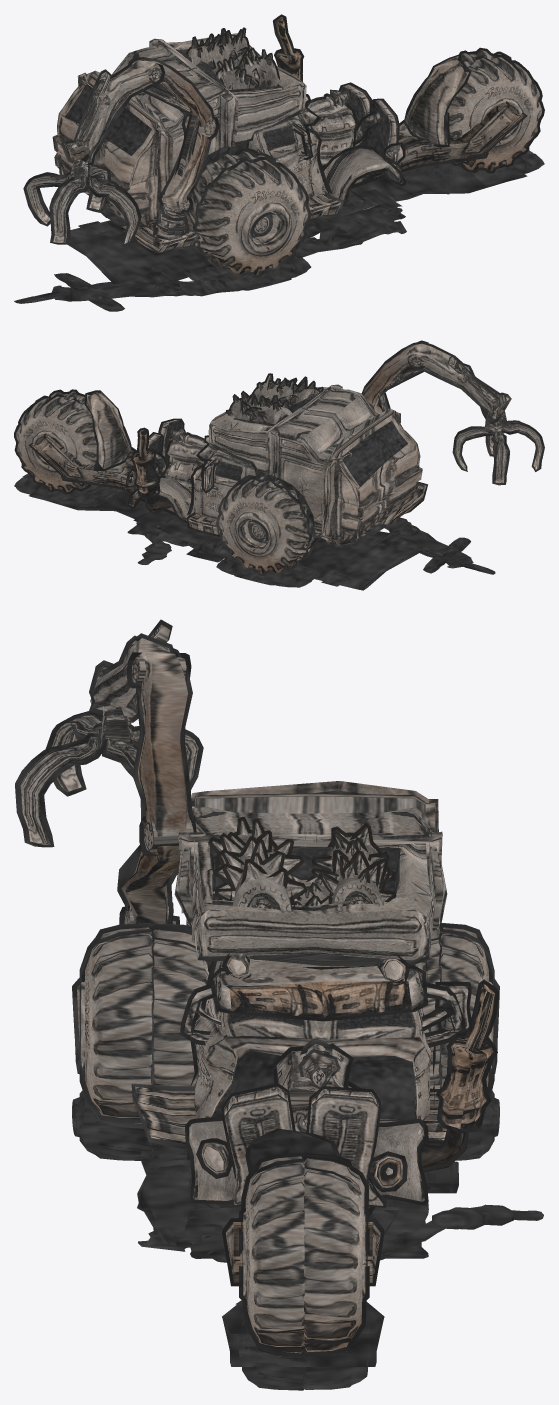
File: garbage.glb
3 renders of one model, top to bottom at view 1: azimuth 30°, elevation 25°; view 2: azimuth 150°, elevation 25°; view 3: azimuth 270°, elevation 25°, orthographic. The views are drawn at different scales.
Visible parts, largest first — view 1: Plane.004_2, Plane.023_8, Plane.001_0, Plane.003_1, Plane.012_17, Plane.009_14, Plane.011_16, Plane.018_18, Plane.010_15, Plane.013_20, Plane.025_24, Plane.020_19 (+9 smaller); view 2: Plane.001_0, Plane.004_2, Plane.023_8, Plane.003_1, Plane.012_17, Plane.009_14, Plane.010_15, Plane.011_16, Plane.018_18, Plane.025_24, Plane.013_20, Plane.020_19 (+6 smaller); view 3: Plane.004_2, Plane.001_0, Plane.023_8, Plane.003_1, Plane.009_14, Plane.012_17, Plane.010_15, Plane.018_18, Plane.025_24, Plane.013_20, Plane.006_11, Plane.020_19 (+5 smaller).
Boxes of the visible parts, <box> form: Plane.004_2: <box>219,17,542,202</box>; Plane.023_8: <box>67,150,544,292</box>; Plane.001_0: <box>55,36,303,228</box>; Plane.003_1: <box>187,151,308,274</box>; Plane.012_17: <box>64,59,216,211</box>; Plane.009_14: <box>273,14,544,205</box>; Plane.011_16: <box>14,273,227,311</box>; Plane.018_18: <box>26,166,138,243</box>; Plane.010_15: <box>52,33,306,228</box>; Plane.013_20: <box>60,57,219,214</box>; Plane.025_24: <box>187,148,311,277</box>; Plane.020_19: <box>23,164,141,246</box>; Plane.001_0: <box>211,386,420,545</box>; Plane.004_2: <box>16,391,257,534</box>; Plane.023_8: <box>14,473,422,590</box>; Plane.003_1: <box>219,476,314,573</box>; Plane.012_17: <box>363,343,508,433</box>; Plane.009_14: <box>14,389,219,536</box>; Plane.010_15: <box>208,381,422,547</box>; Plane.011_16: <box>378,517,495,574</box>; Plane.018_18: <box>455,422,542,483</box>; Plane.025_24: <box>216,475,316,575</box>; Plane.013_20: <box>361,340,511,435</box>; Plane.020_19: <box>452,418,544,485</box>; Plane.004_2: <box>184,953,494,1353</box>; Plane.001_0: <box>178,793,443,972</box>; Plane.023_8: <box>72,1090,543,1390</box>; Plane.003_1: <box>77,927,493,1123</box>; Plane.009_14: <box>180,952,499,1357</box>; Plane.012_17: <box>90,624,193,925</box>; Plane.010_15: <box>174,781,447,965</box>; Plane.018_18: <box>20,715,198,844</box>; Plane.025_24: <box>72,922,499,1128</box>; Plane.013_20: <box>89,619,196,924</box>; Plane.006_11: <box>212,820,303,911</box>; Plane.020_19: <box>15,711,203,847</box>.
Bounding box in the file's own units: 9.35 × 3.77 × 4.62.
Materials: 2 (2 with a texture image).
